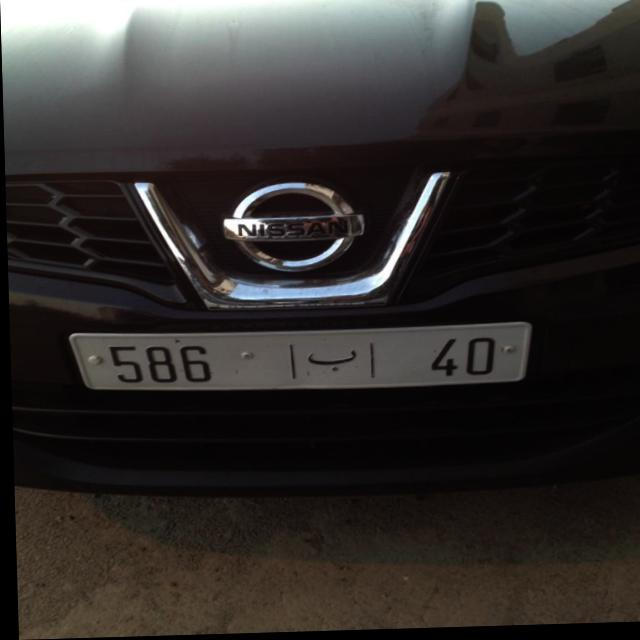License-Plate: (68, 324, 530, 392)
